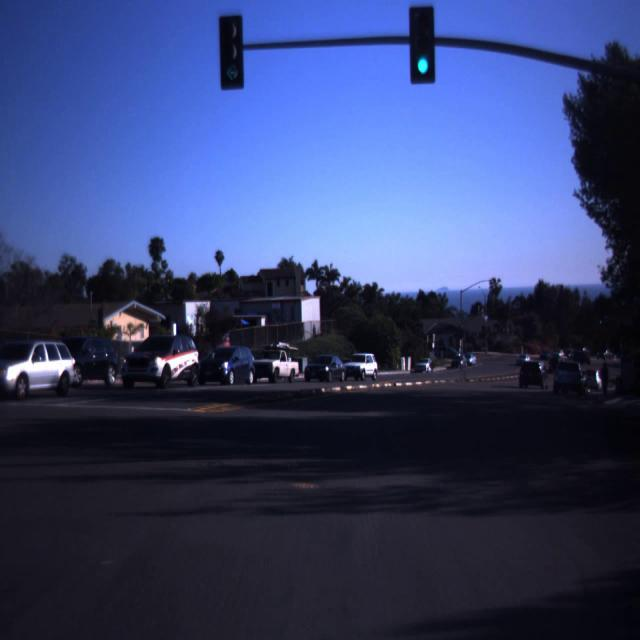yesil: (409, 5, 435, 85), (219, 15, 244, 90)
